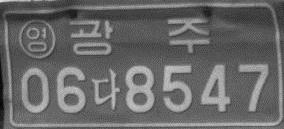0: (19, 66, 50, 114)
4: (200, 63, 230, 112)
5: (161, 64, 194, 113)
6: (56, 65, 87, 114)
7: (237, 62, 270, 112)
8: (124, 64, 155, 112)
광주_D: (68, 18, 210, 57)
다: (91, 68, 121, 110)
영: (17, 17, 55, 60)
